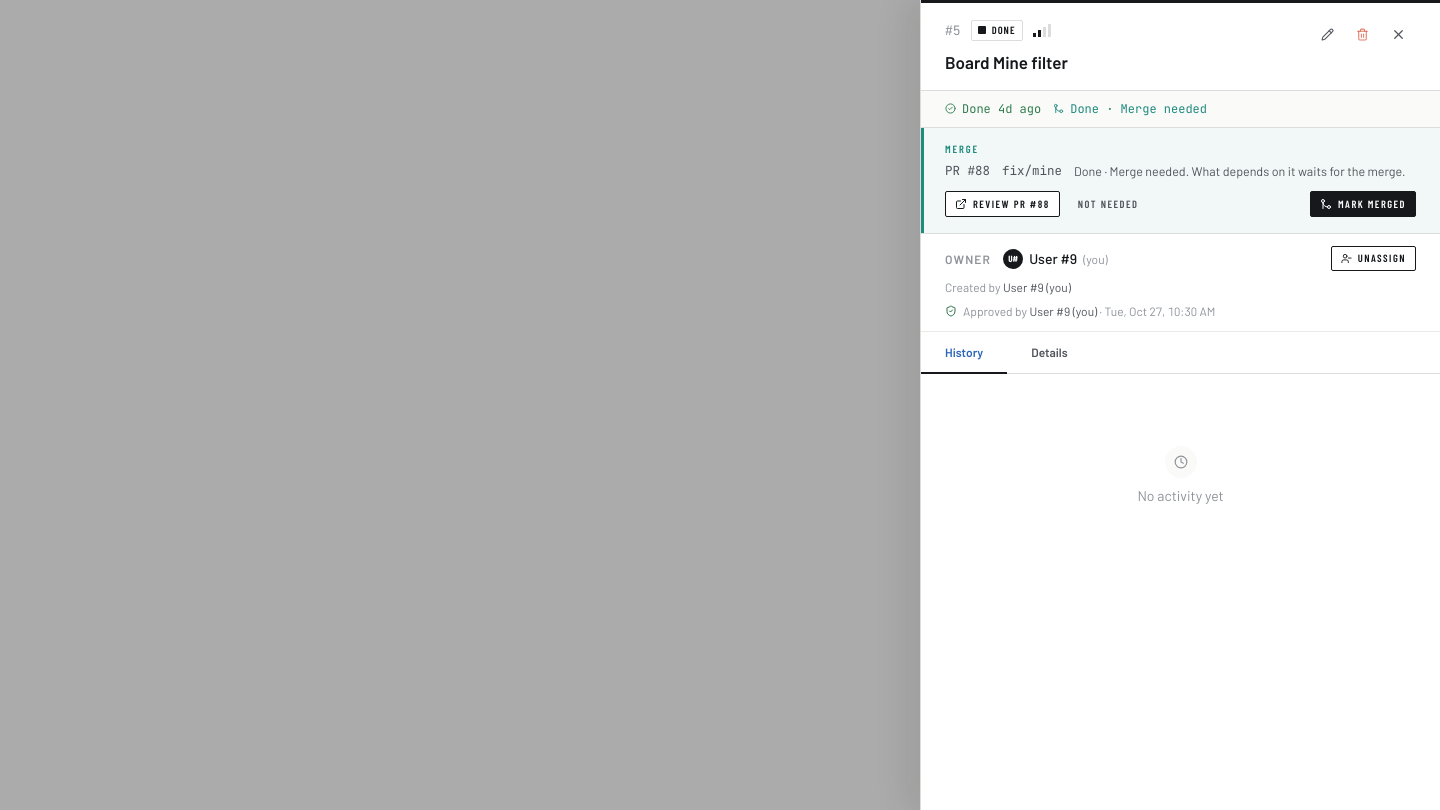
Test: TaskDrawer human actions › shows "Done · Merge needed" and records the merge, reporting an earlier record
Expected: the element with test id "merge-status" reads "Done · Merge needed", [1070,101,1207,117]
Click the button "Mark merged" at (1363, 204), box [1310,191,1416,217]
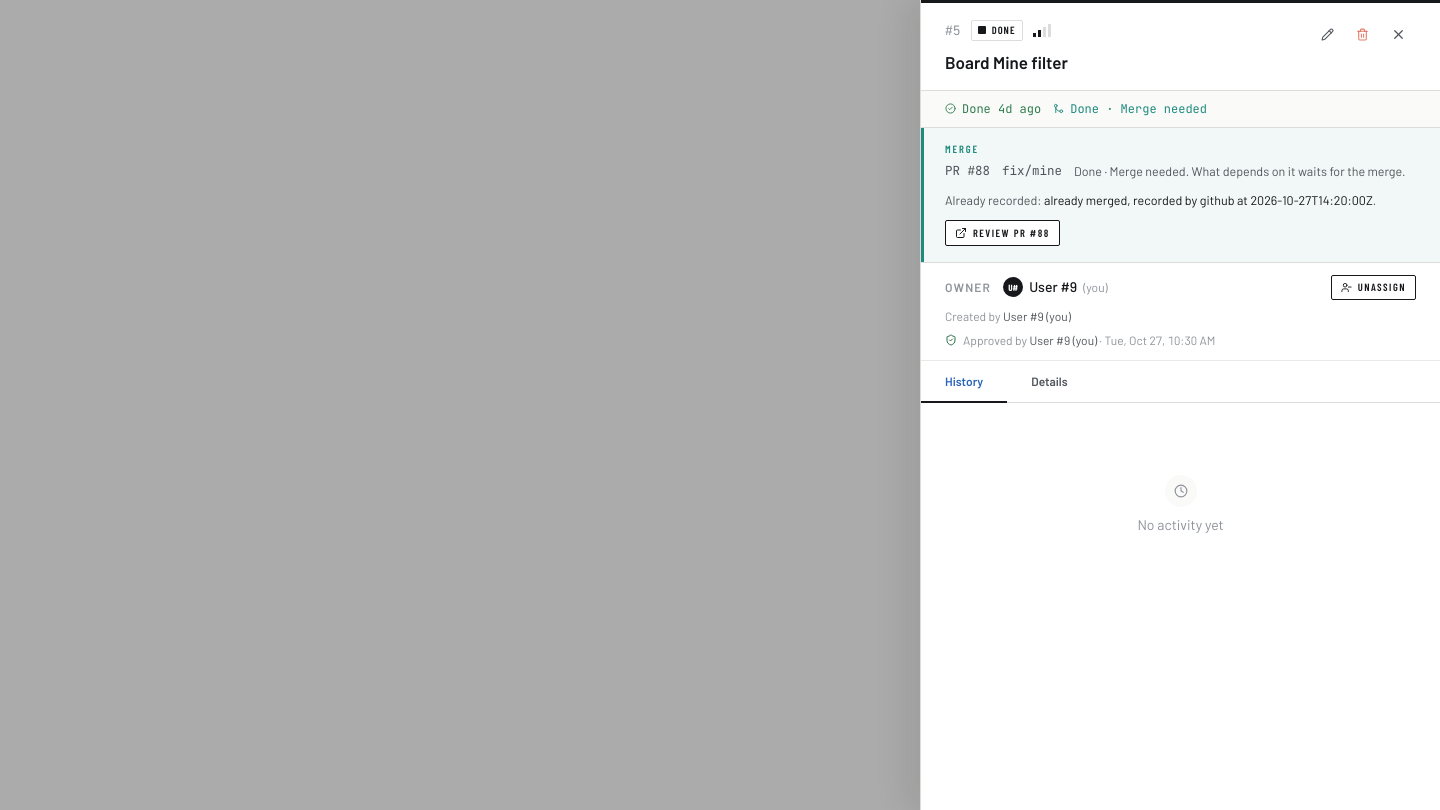
Expected: the message shows "already merged, recorded by github", [1044,192,1373,208]
